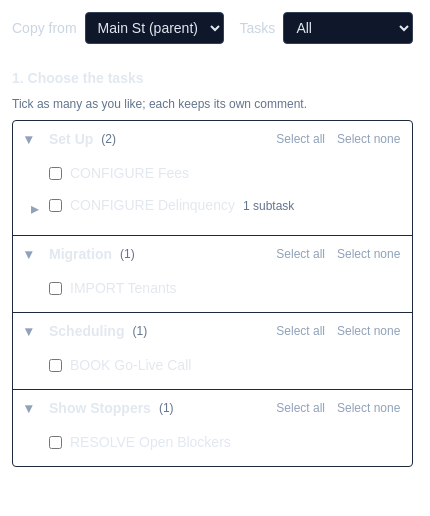
Test: BulkCopyPanel › reveals subtasks when a task is expanded
The width and height of the screenshot is (430, 516).
Click the button named "Expand CONFIGURE Delinquency". click: x=35, y=209
box: [25,197,45,221]
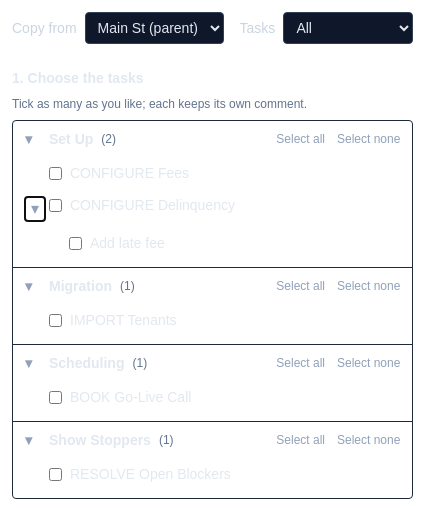
Expected: the checkbox named "Copy from Add late fee" is shown, [69,237,82,250]
